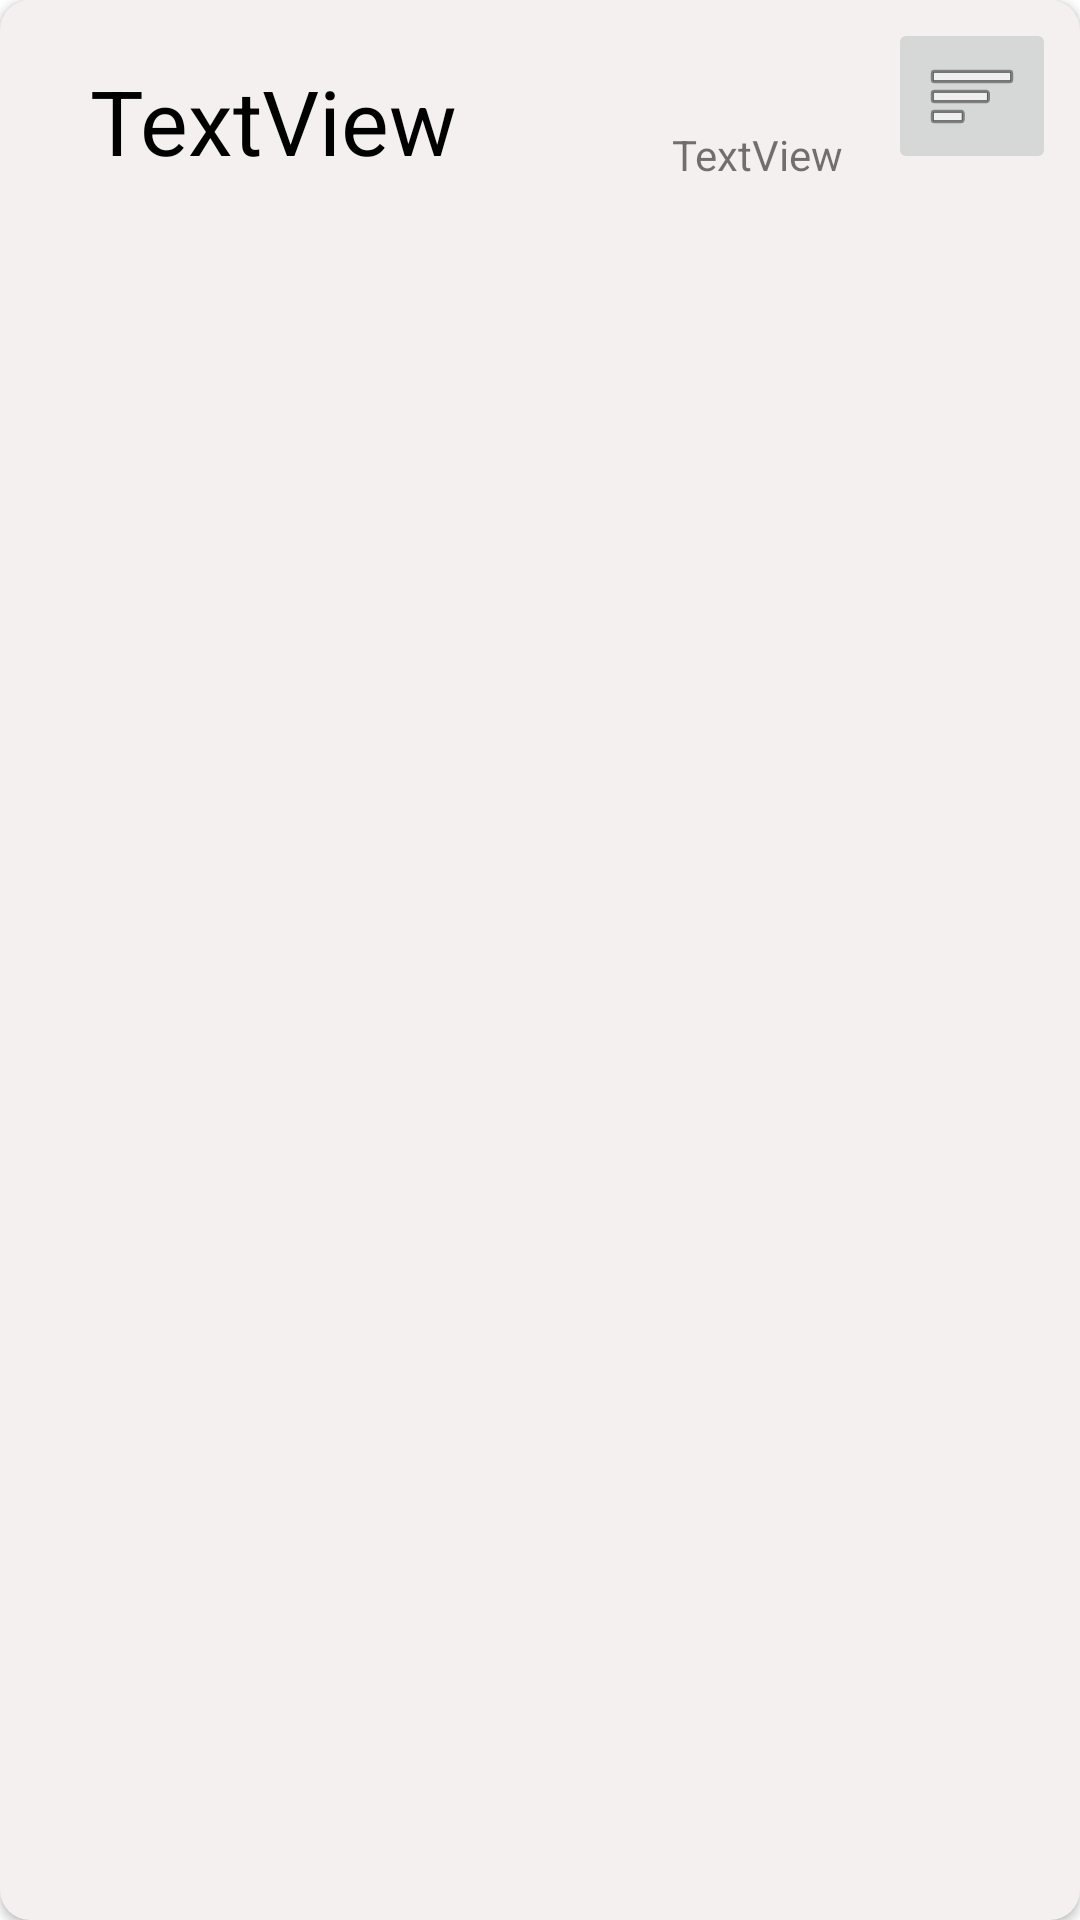

Where icons sit on this 1080w x 1920h app screen, as Rect(x1, y1, x2, y2):
sort by size: Rect(900, 36, 1044, 156)
